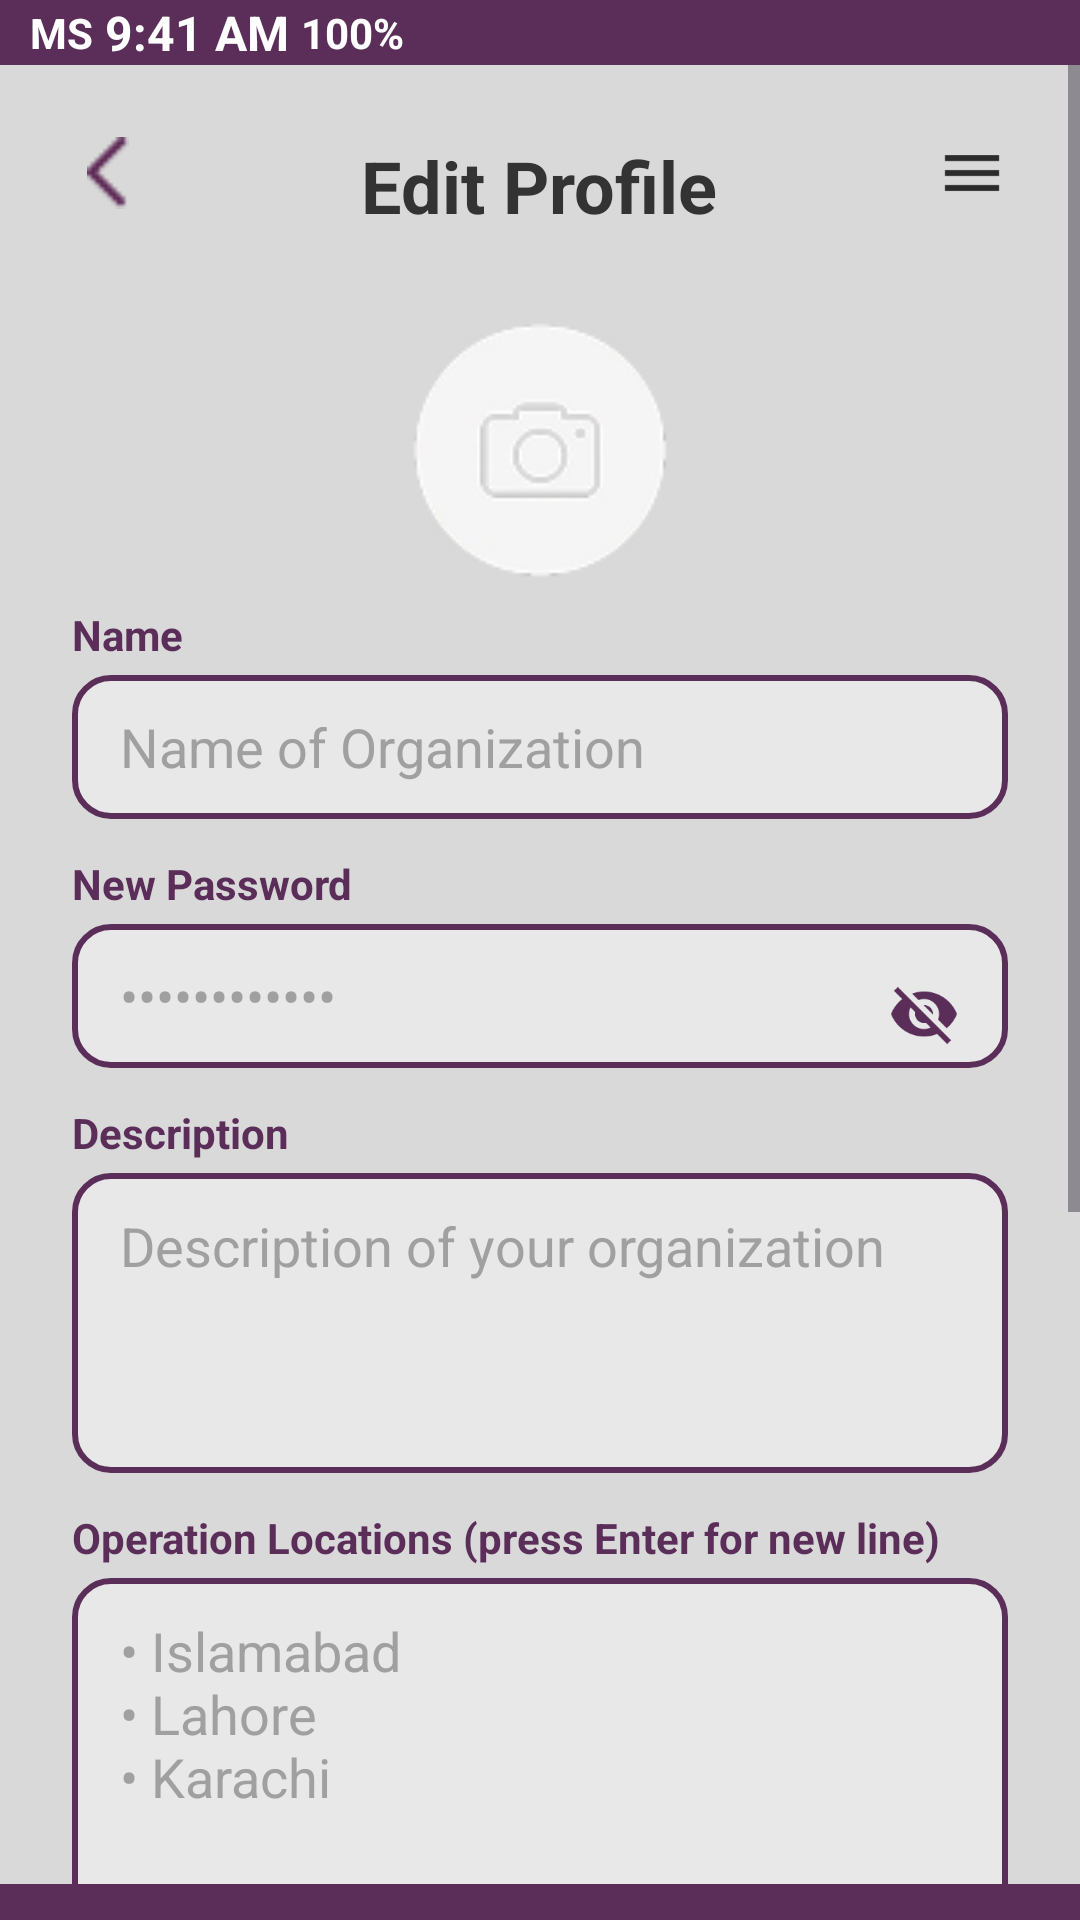

Where to tap for icons on this 1080 x 1920 app screen, as [x,y]:
Back: [107,172]
eye off: [924,1015]
Menu: [972,173]
